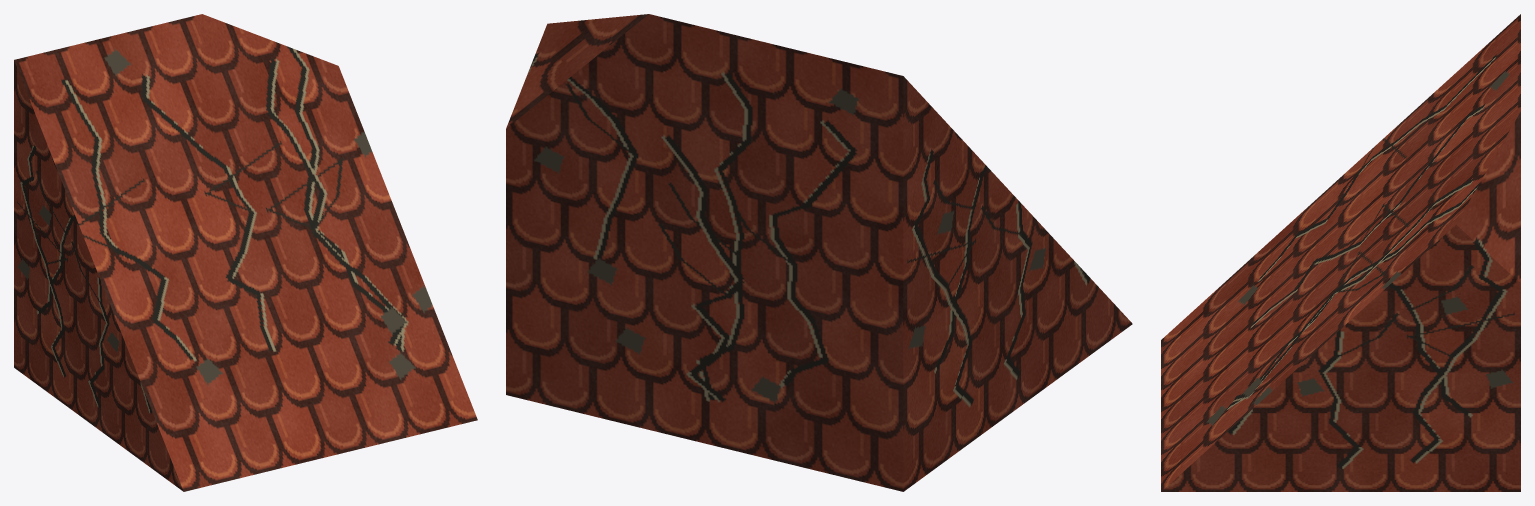
File: roof_z2.glb
The picture shows the model from 3 angles, left to right: view 1: azimuth 30°, elevation 25°; view 2: azimuth 150°, elevation 25°; view 3: azimuth 270°, elevation 25°; orthographic projection. The views are drawn at different scales.
Parts seen in each view (by area): view 1: roof_z2; view 2: roof_z2; view 3: roof_z2.
Boxes of the visible parts, x1,y1,x2,y2 form: roof_z2: (14,14,477,491); roof_z2: (506,14,1132,491); roof_z2: (1161,14,1520,491).
Size of the model in its own units: 1 by 1 by 1.
1 material, 1 textured.
